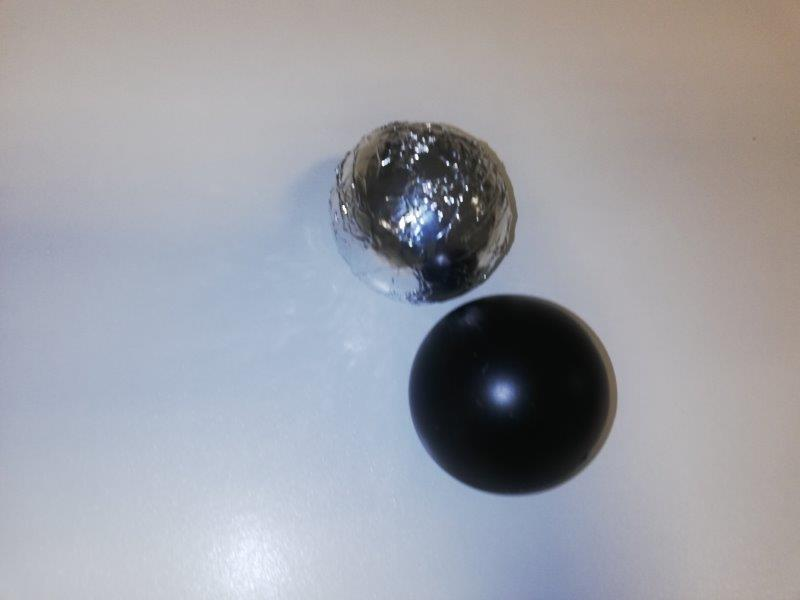bianca: (329, 120, 514, 303)
nera: (412, 295, 606, 498)
